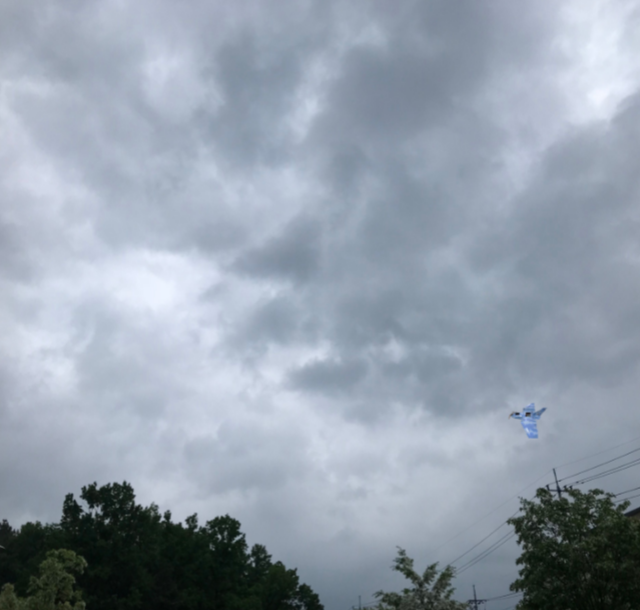military drone: (507, 402, 546, 438)
